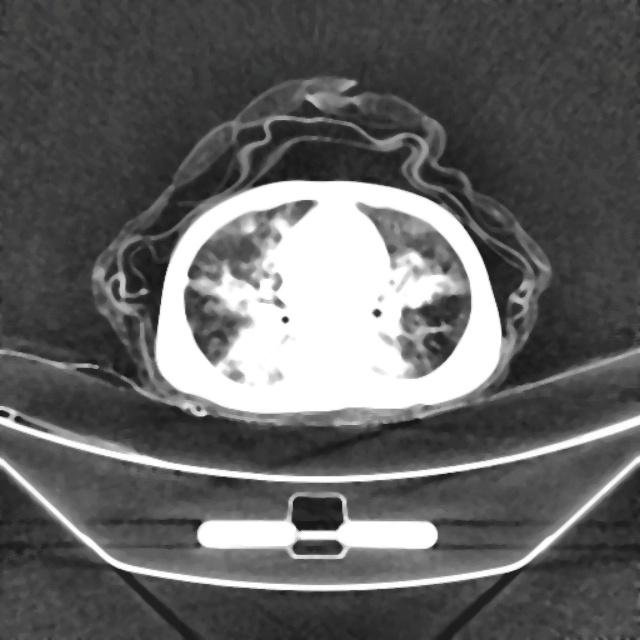covid: (90, 74, 553, 428)
